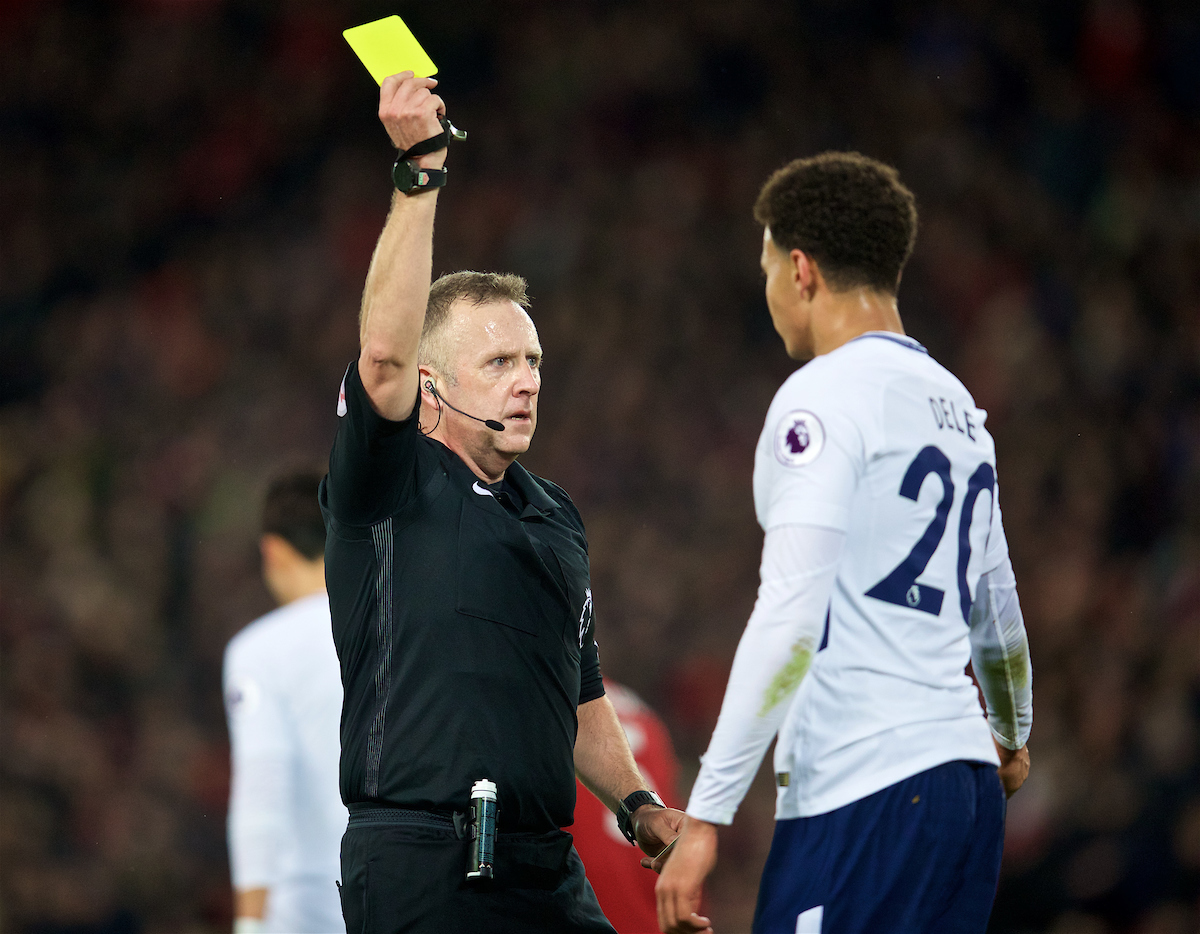yellow_card: (325, 7, 499, 175)
